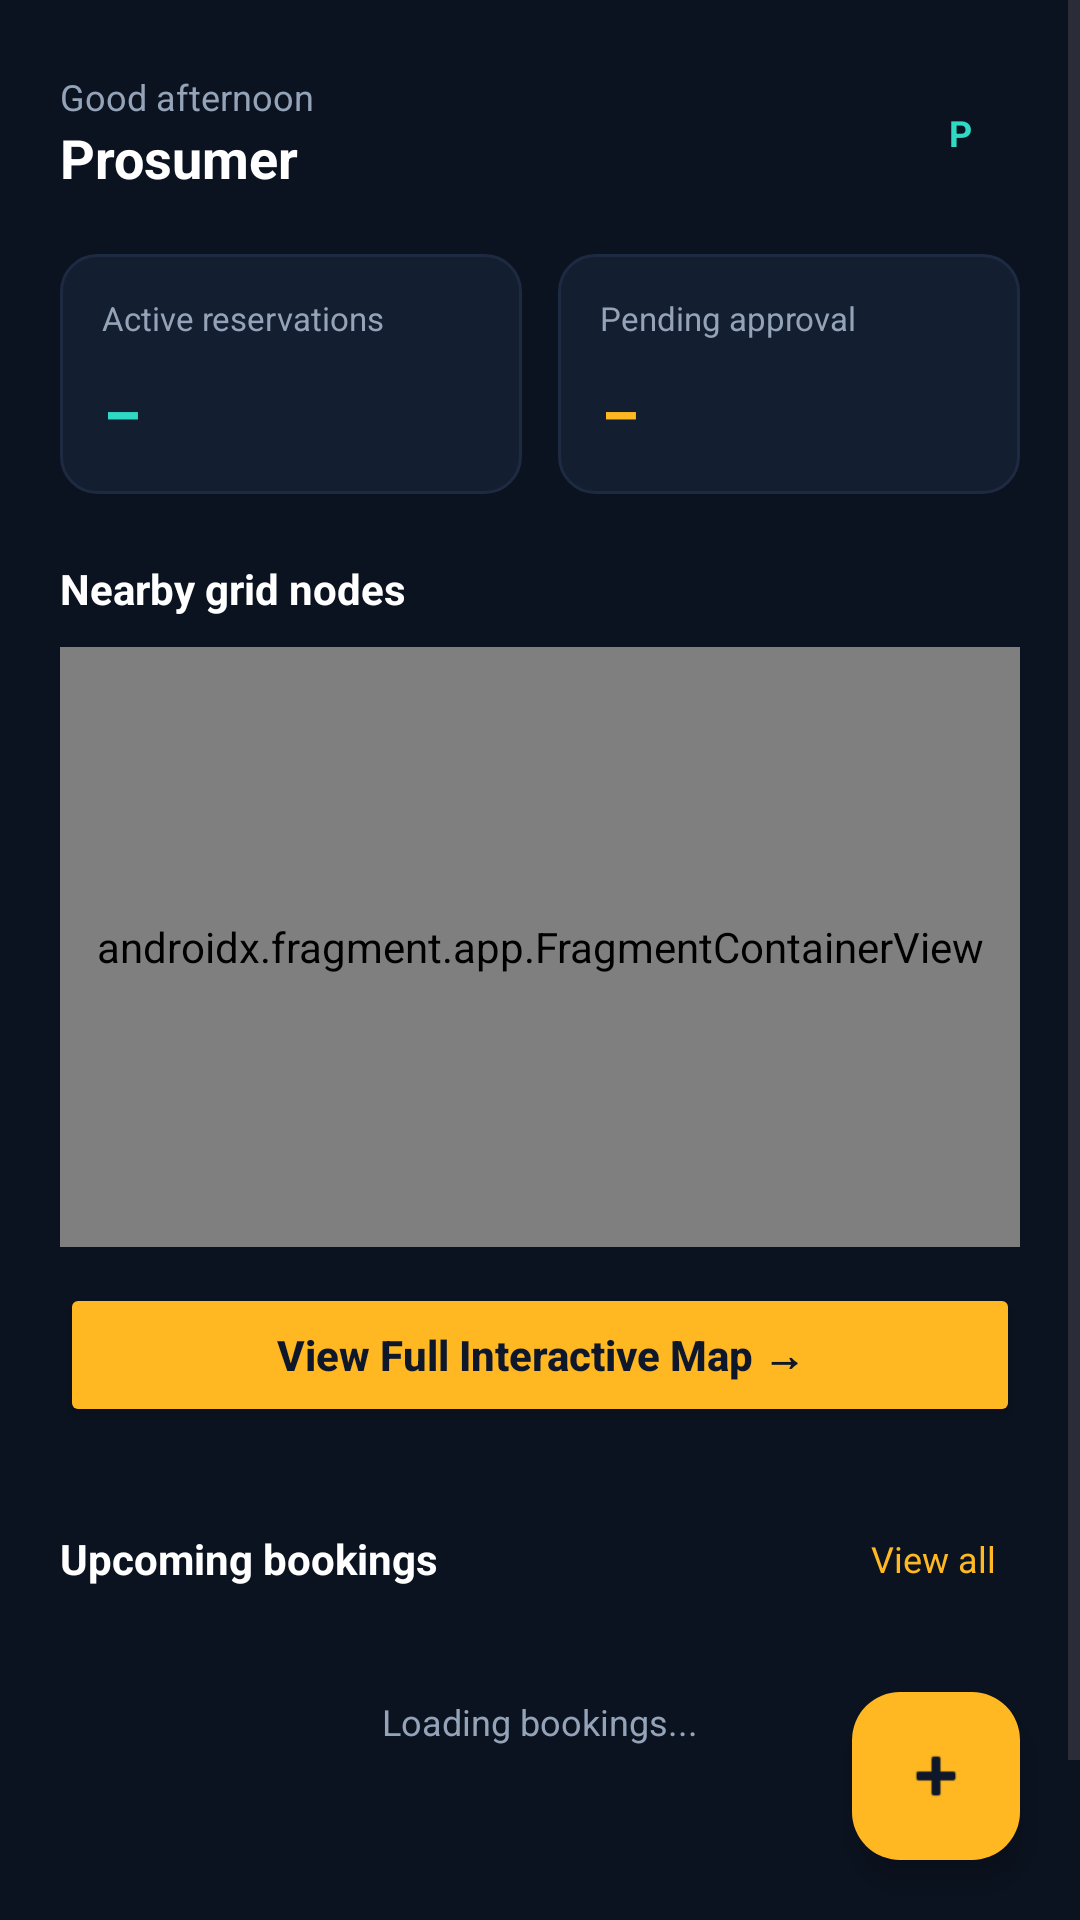

Locate icon controls on the screen. Image size 1080 x 1920, boxes as bbox=[x1, y1, x2, y2].
New reservation: bbox=[852, 1692, 1020, 1860]
